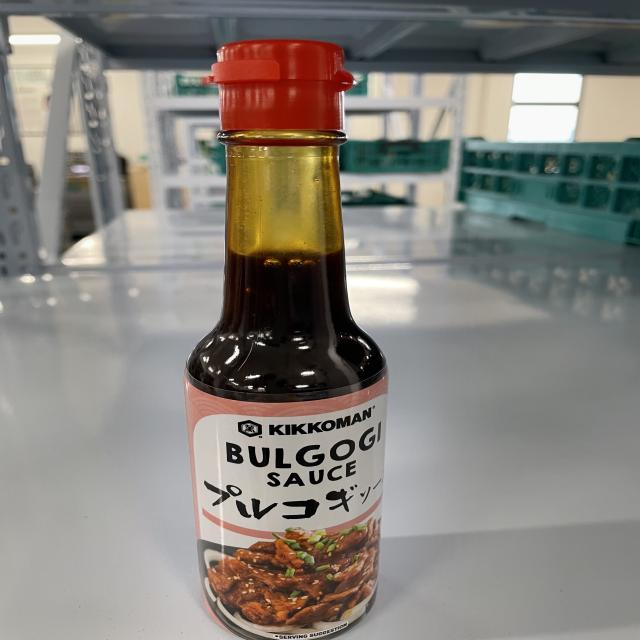object_name: (210, 61, 385, 626)
